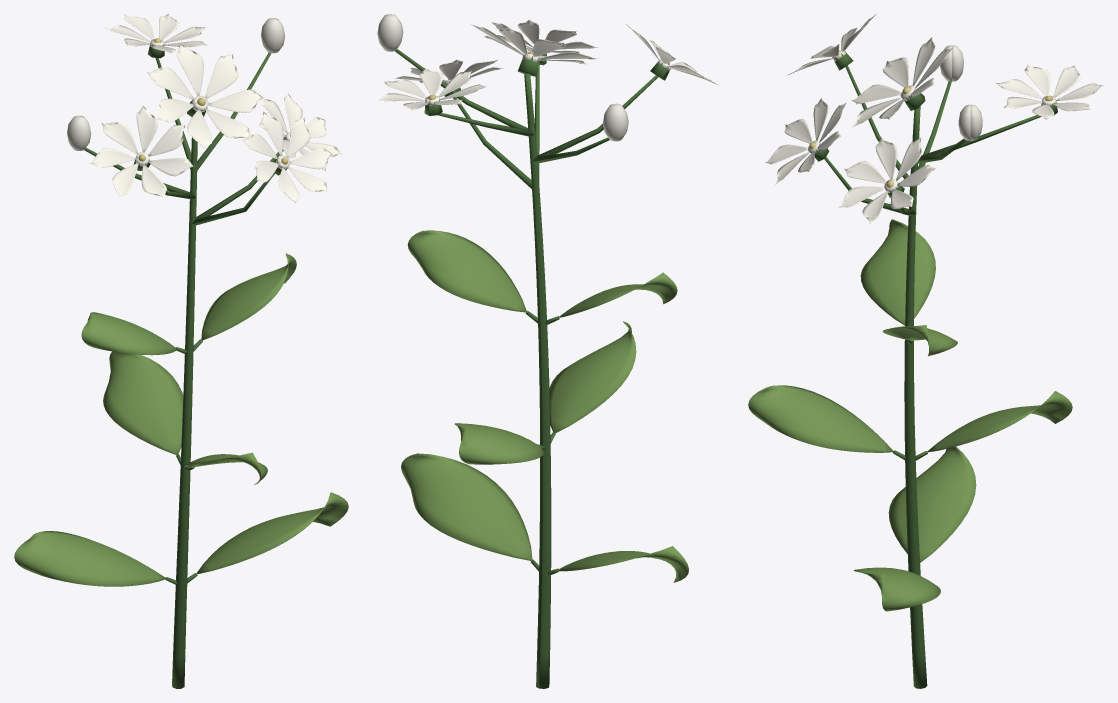
The model's file is jasmine-fine-v2.glb.
The picture shows the model from 3 angles, left to right: view 1: azimuth 30°, elevation 25°; view 2: azimuth 150°, elevation 25°; view 3: azimuth 270°, elevation 25°; orthographic projection. The views are drawn at different scales.
Parts seen in each view (by area): view 1: jasmine-fine-v2-leaf, jasmine-fine-v2-petal, jasmine-fine-v2-stem; view 2: jasmine-fine-v2-leaf, jasmine-fine-v2-stem, jasmine-fine-v2-petal; view 3: jasmine-fine-v2-leaf, jasmine-fine-v2-petal, jasmine-fine-v2-stem.
Boxes of the visible parts, x1,y1,x2,y2 form: jasmine-fine-v2-leaf: (14, 253, 348, 586); jasmine-fine-v2-petal: (67, 14, 341, 203); jasmine-fine-v2-stem: (84, 42, 287, 688); jasmine-fine-v2-leaf: (401, 230, 689, 582); jasmine-fine-v2-stem: (395, 49, 669, 688); jasmine-fine-v2-petal: (377, 14, 719, 141); jasmine-fine-v2-leaf: (748, 219, 1072, 611); jasmine-fine-v2-petal: (765, 14, 1103, 224); jasmine-fine-v2-stem: (810, 51, 1057, 688).
Bounding box in the file's own units: 0.8011 × 1.59 × 0.7892.
